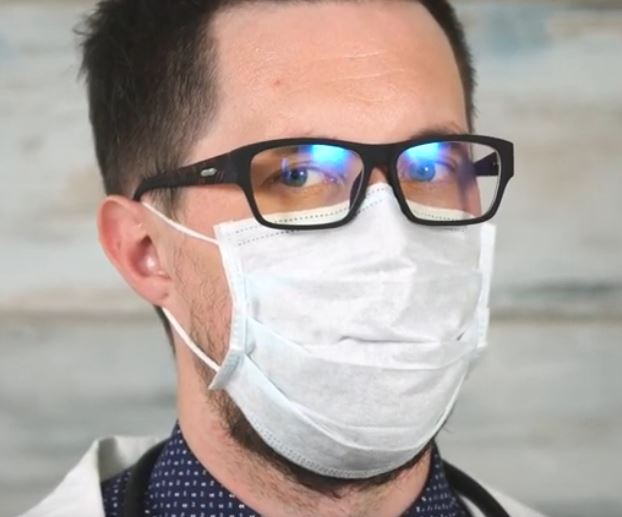with_mask: (210, 118, 468, 442)
